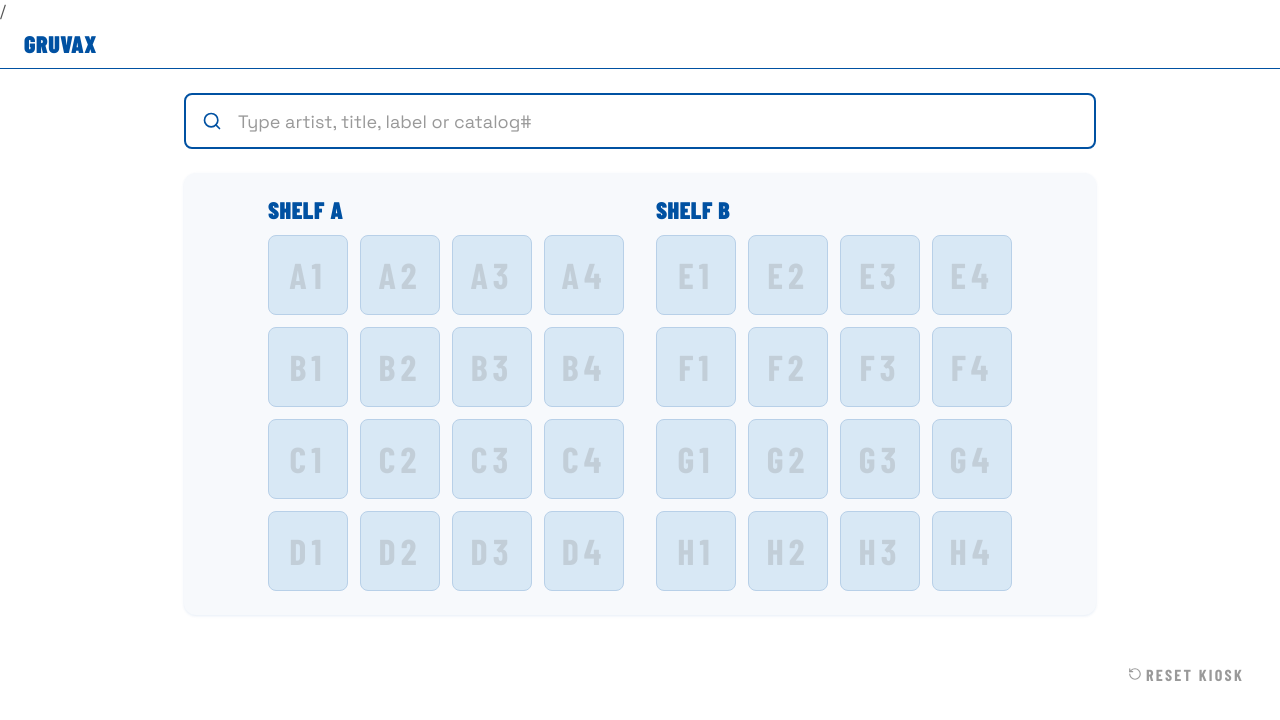
Test: authoritative shelf names and physical ordering › shares nonduplicate fallback addresses and panel layout when unit metadata is empty
Click the element with class "cube" showing "E1". click: (696, 275)
box: 656,235 -> 736,315
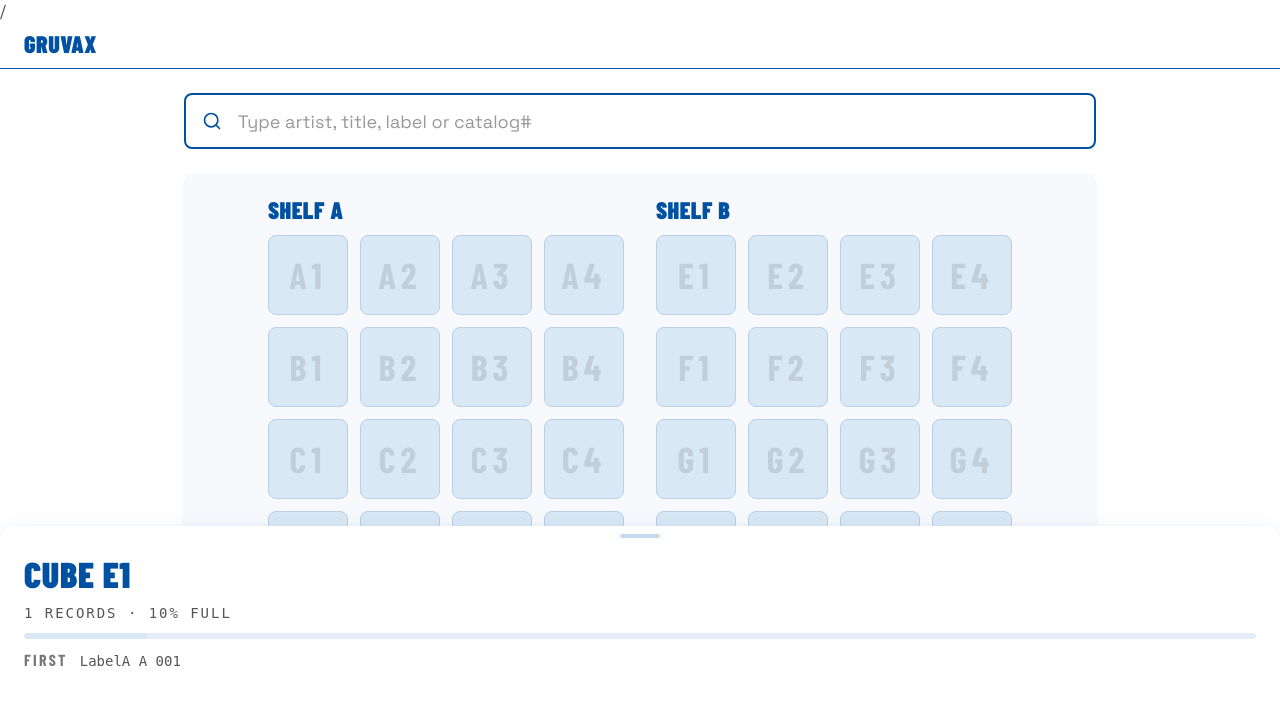
Now the dialog "CUBE E1" is shown, box 0,526 -> 1279,719
